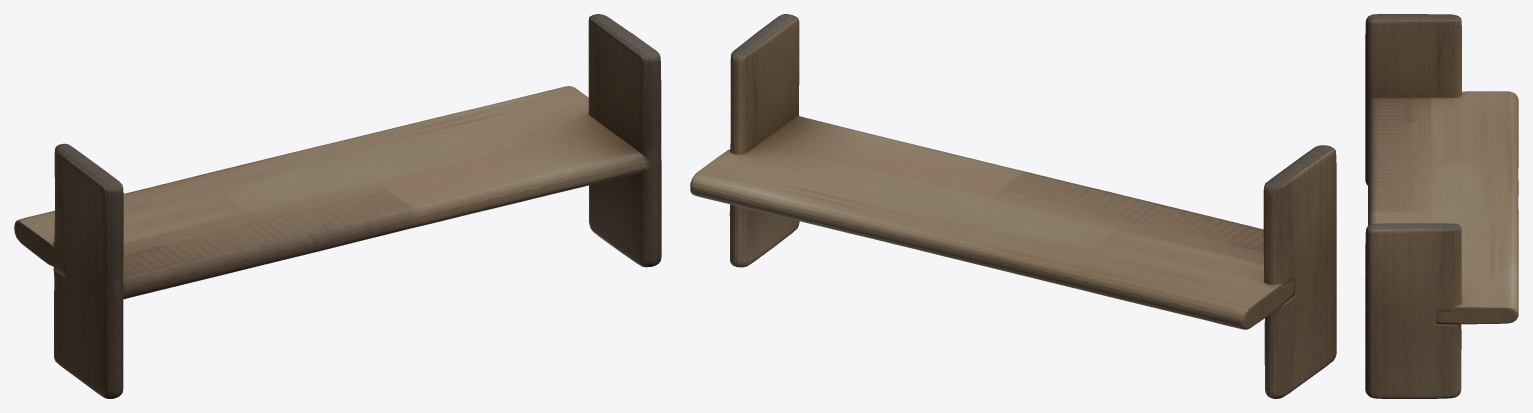
Rendered from trellis1.glb.
3 renders of one model, left to right at view 1: azimuth 30°, elevation 25°; view 2: azimuth 150°, elevation 25°; view 3: azimuth 270°, elevation 25°, orthographic. The views are drawn at different scales.
Parts seen in each view (by area): view 1: world; view 2: world; view 3: world.
Part boxes in pixels (x1=…): world: x1=14, y1=14, x2=661, y2=398; world: x1=690, y1=14, x2=1336, y2=398; world: x1=1365, y1=14, x2=1518, y2=398.
Bounding box in the file's own units: 0.9913 × 0.3683 × 0.2964.
Materials: 1 (1 with a texture image).
